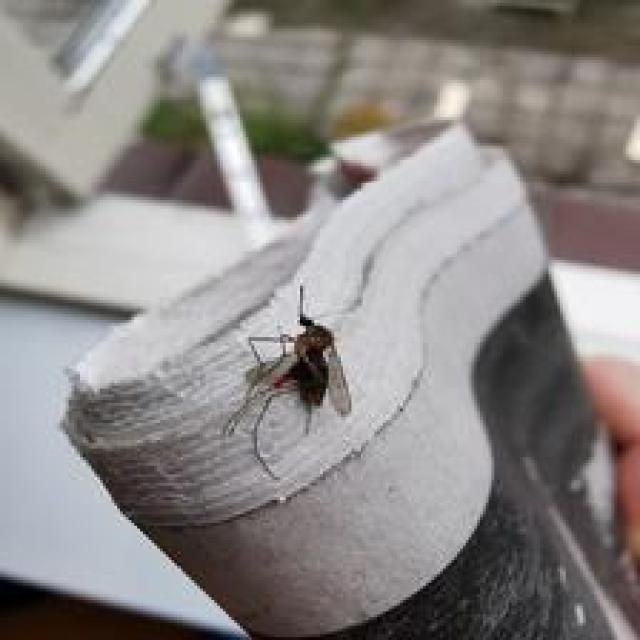Culex: (221, 282, 353, 482)
